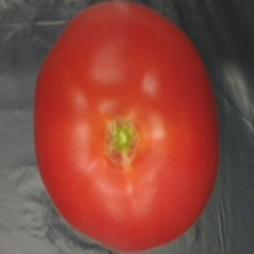unripe: (26, 0, 222, 253)
